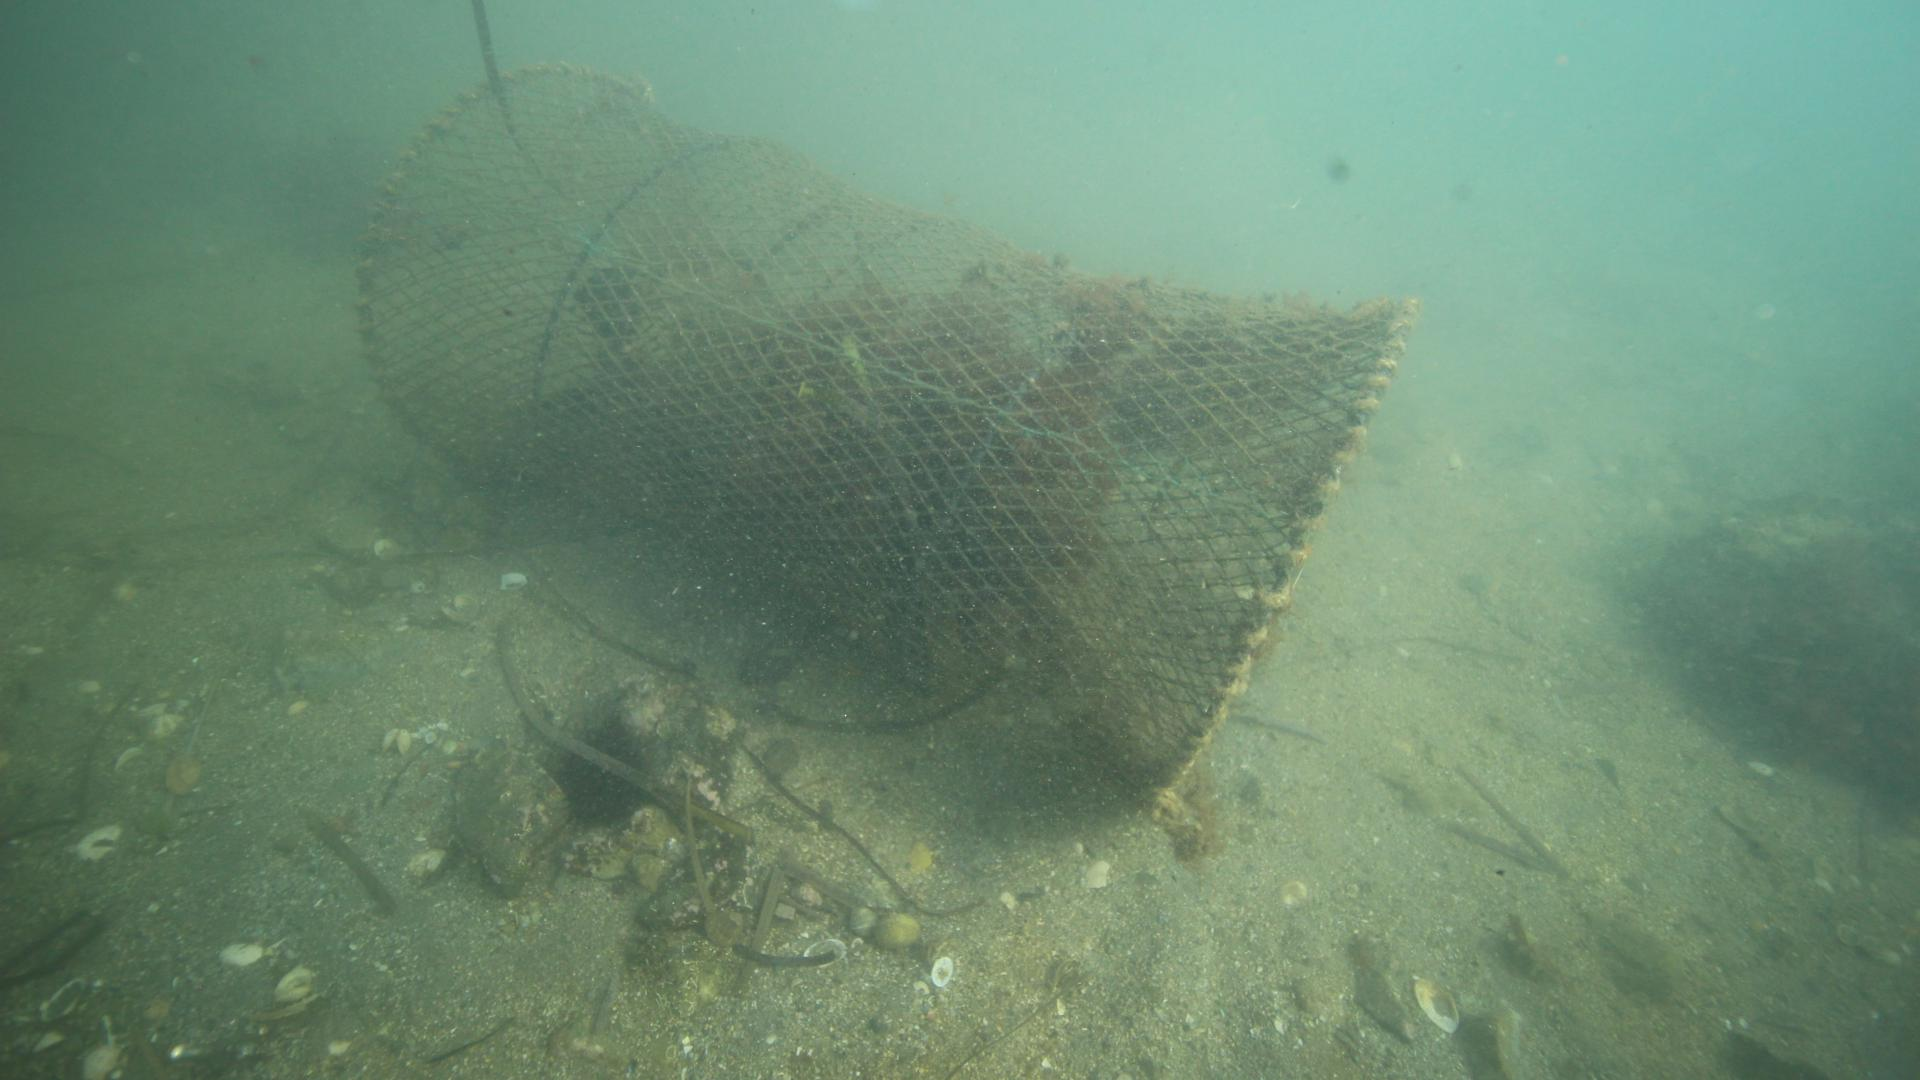spring fish trap: (356, 59, 1418, 816)
